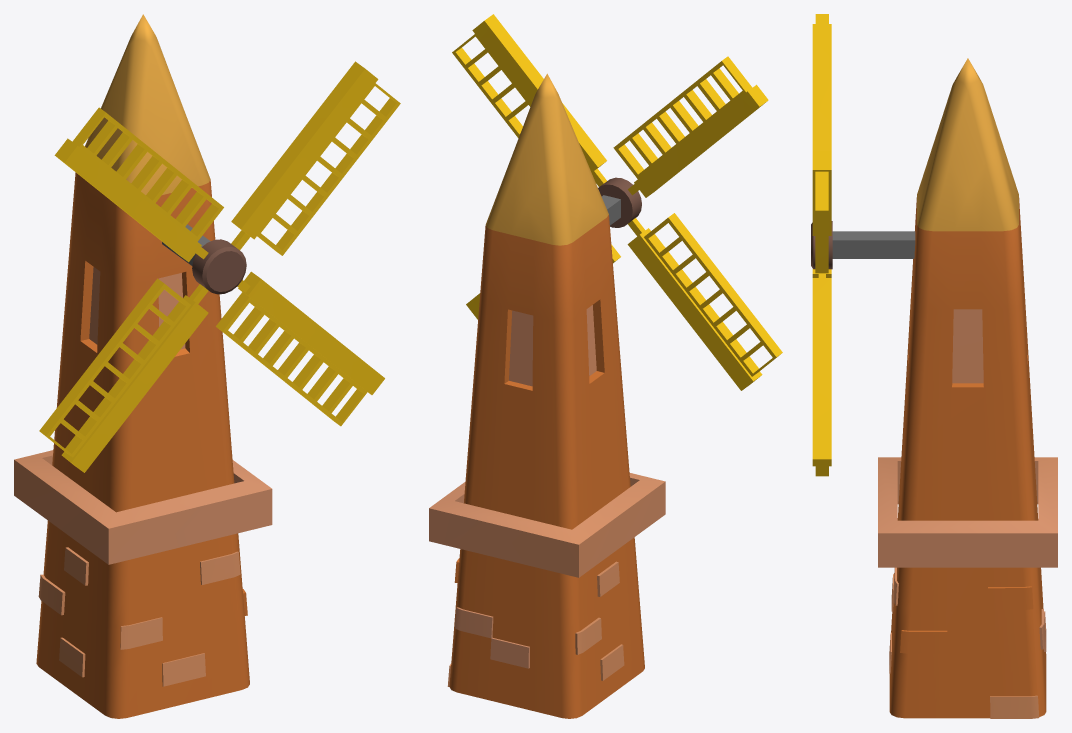
The model's file is windmill.fbx.
The picture shows the model from 3 angles, left to right: view 1: azimuth 30°, elevation 25°; view 2: azimuth 150°, elevation 25°; view 3: azimuth 270°, elevation 25°; orthographic projection. The views are drawn at different scales.
Parts seen in each view (by area): view 1: windmillBase, windmillPropellers; view 2: windmillBase, windmillPropellers; view 3: windmillBase, windmillPropellers.
Part boxes in pixels (x1,y1,x2,y2): windmillBase: (14,14,272,718); windmillPropellers: (39,61,400,472); windmillBase: (429,73,665,718); windmillPropellers: (452,14,782,390); windmillBase: (832,58,1057,718); windmillPropellers: (811,14,832,476).
Size of the model in its own units: 671 by 1192 by 425.
